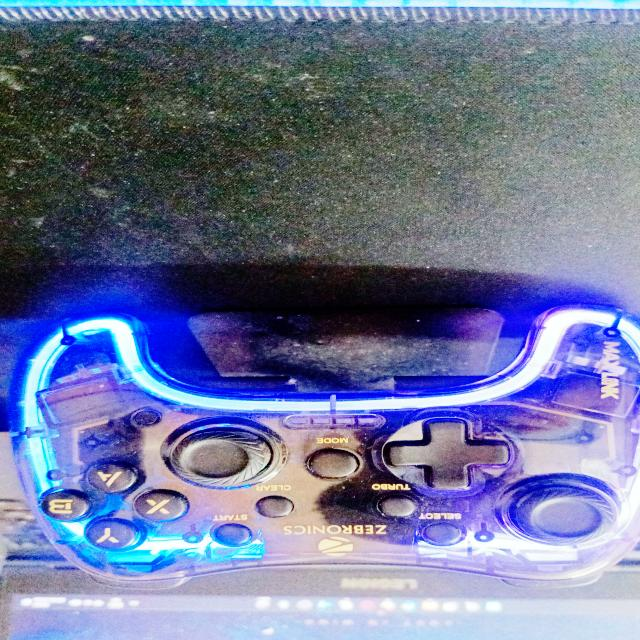gamepad: (8, 304, 640, 591)
